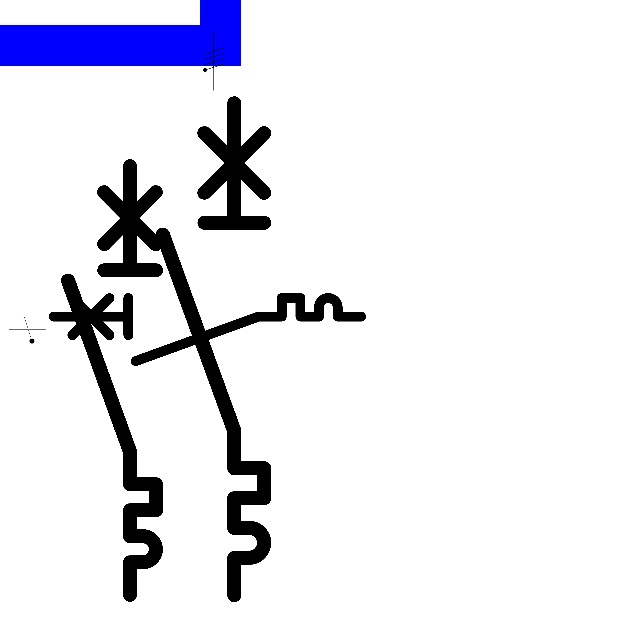interruptor_termomagnetico: (150, 90, 277, 608), (57, 155, 167, 606), (45, 290, 369, 369)
